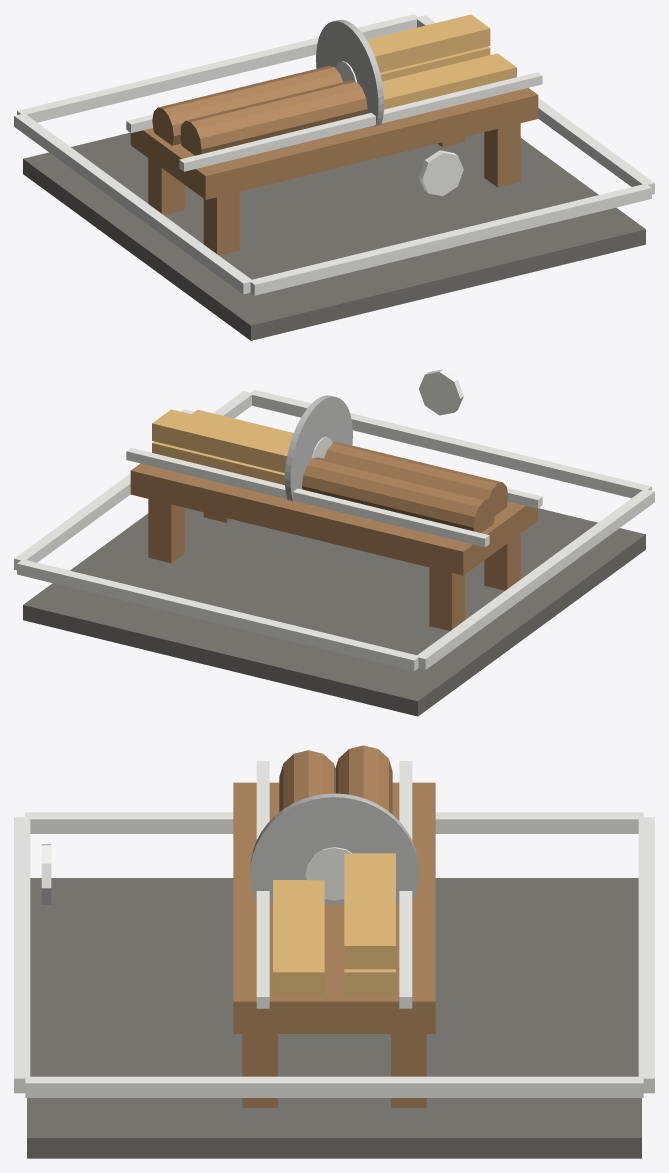
Rendered from t8_sawmill.glb.
3 renders of one model, top to bottom at view 1: azimuth 30°, elevation 25°; view 2: azimuth 150°, elevation 25°; view 3: azimuth 270°, elevation 25°, orthographic. The views are drawn at different scales.
Visible parts, largest first — view 1: FootprintBase, TableTop, TierFrontTrim, InputLogA, TierBackTrim, TierLeftTrim, LeftRail, InputLogB, OutputPlank.001, OutputPlank.002, SawBlade, TierRightTrim (+5 smaller); view 2: FootprintBase, TableTop, TierBackTrim, InputLogB, TierFrontTrim, TierLeftTrim, RightRail, OutputPlank.001, InputLogA, SawBlade, TierRightTrim, TableLeg.003 (+6 smaller); view 3: FootprintBase, TableTop, TierRightTrim, SawBlade, TierLeftTrim, OutputPlank.001, OutputPlank.002, TierBackTrim, TierFrontTrim, InputLogB, LeftRail, RightRail (+6 smaller).
Boxes of the visible parts, x1,y1,x2,y2 form: FootprintBase: [23, 132, 645, 340]; TableTop: [130, 88, 538, 199]; TierFrontTrim: [249, 183, 651, 295]; InputLogA: [180, 80, 367, 155]; TierBackTrim: [17, 14, 419, 122]; TierLeftTrim: [14, 113, 251, 294]; LeftRail: [179, 72, 542, 171]; InputLogB: [152, 65, 342, 145]; OutputPlank.001: [367, 14, 490, 72]; OutputPlank.002: [382, 53, 516, 109]; SawBlade: [316, 19, 383, 125]; TierRightTrim: [417, 15, 654, 194]; FootprintBase: [23, 508, 645, 716]; TableTop: [130, 463, 538, 575]; TierBackTrim: [17, 560, 419, 671]; InputLogB: [302, 457, 494, 532]; TierFrontTrim: [249, 389, 651, 498]; TierLeftTrim: [417, 489, 654, 669]; RightRail: [126, 448, 489, 547]; OutputPlank.001: [152, 409, 291, 472]; InputLogA: [324, 442, 508, 515]; SawBlade: [285, 395, 352, 501]; TierRightTrim: [14, 391, 251, 570]; TableLeg.003: [148, 499, 184, 563]; FootprintBase: [27, 878, 641, 1158]; TableTop: [233, 782, 435, 1033]; TierRightTrim: [25, 1076, 643, 1097]; SawBlade: [250, 793, 418, 904]; TierLeftTrim: [25, 812, 643, 833]; OutputPlank.001: [344, 853, 395, 969]; OutputPlank.002: [273, 880, 324, 995]; TierBackTrim: [638, 817, 654, 1093]; TierFrontTrim: [14, 817, 30, 1093]; InputLogB: [335, 745, 392, 814]; LeftRail: [256, 761, 269, 1008]; RightRail: [399, 761, 412, 1008].
Size of the model in its own units: 3.96 by 1.66 by 3.96.
